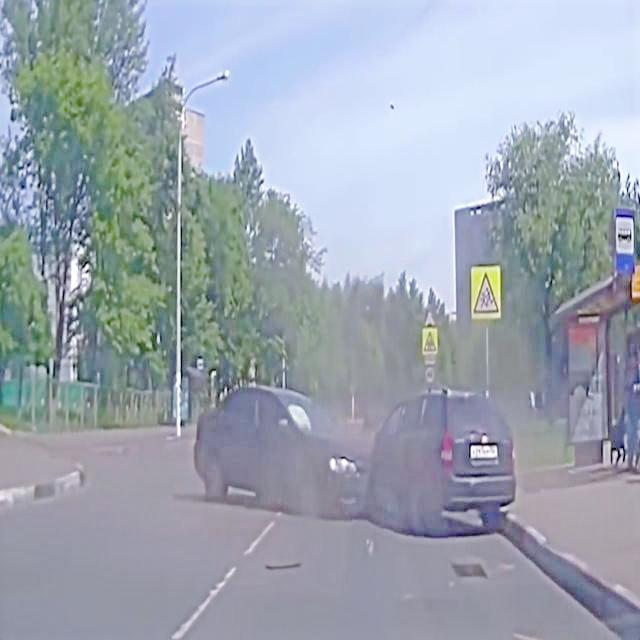Car: (197, 374, 369, 515), (374, 382, 516, 536)
Minor Accident: (197, 362, 526, 538)
